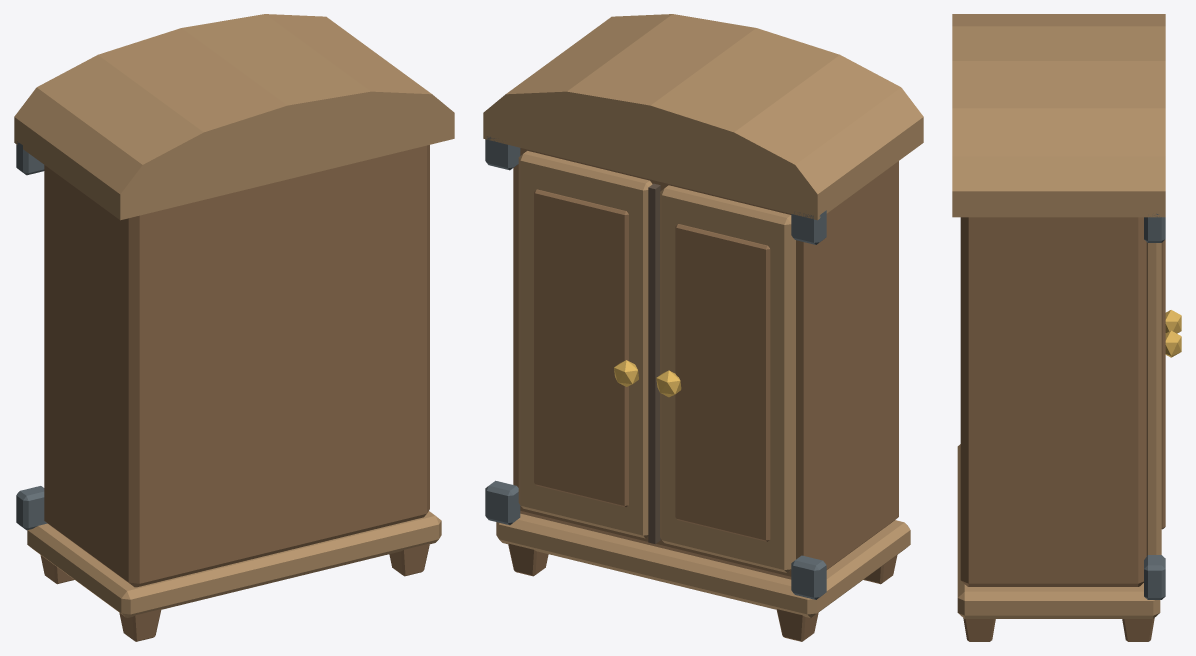
Rendered from BUILD0024_WoodenWardrobe.fbx.
3 views of the same model, side by side, from view 1: azimuth 30°, elevation 25°; view 2: azimuth 150°, elevation 25°; view 3: azimuth 270°, elevation 25° (orthographic).
Visible parts, largest first — view 1: BUILD0024_WoodenWardrobe; view 2: BUILD0024_WoodenWardrobe; view 3: BUILD0024_WoodenWardrobe.
Boxes of the visible parts, x1,y1,x2,y2 form: BUILD0024_WoodenWardrobe: (14, 14, 454, 641); BUILD0024_WoodenWardrobe: (483, 14, 923, 641); BUILD0024_WoodenWardrobe: (952, 14, 1181, 641).
Bounding box in the file's own units: 1.42 × 2.06 × 0.8383.
